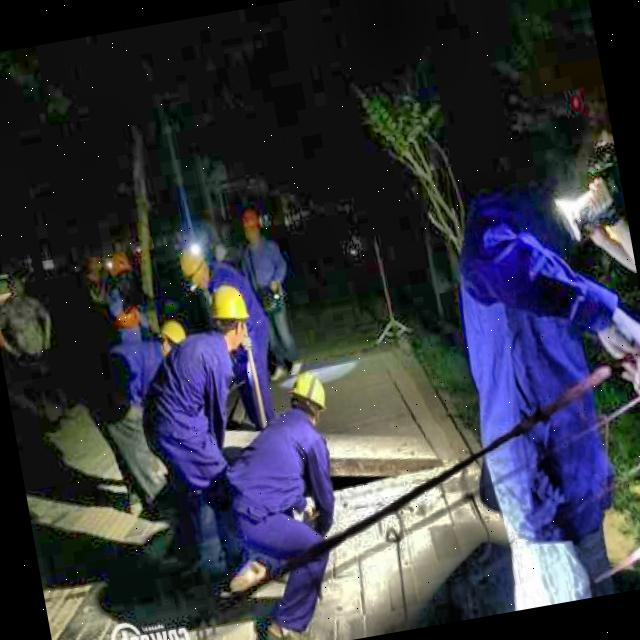helmet: (207, 278, 256, 360), (282, 366, 334, 426), (174, 239, 215, 298), (150, 317, 191, 363)
